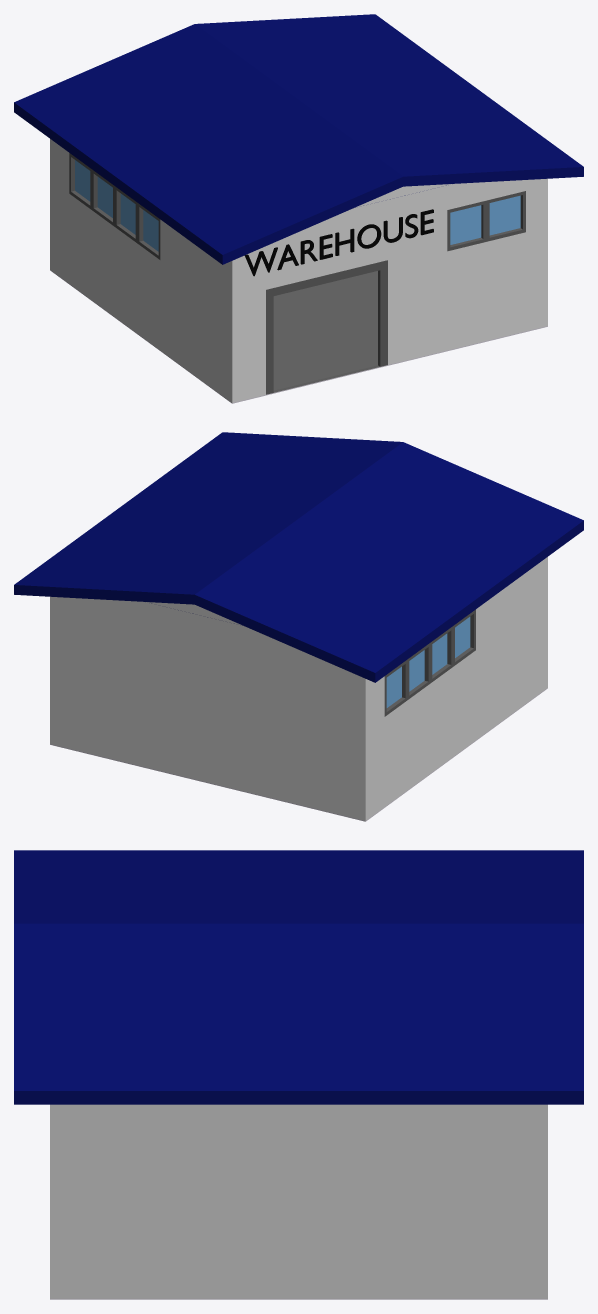
File: WAREHOUSE.fbx
The picture shows the model from 3 angles, top to bottom: view 1: azimuth 30°, elevation 25°; view 2: azimuth 150°, elevation 25°; view 3: azimuth 270°, elevation 25°; orthographic projection. The views are drawn at different scales.
Parts seen in each view (by area): view 1: building_001, Text; view 2: building_001; view 3: building_001.
Part boxes in pixels (bbox=[...]): building_001: bbox=[14, 14, 583, 403]; Text: bbox=[244, 209, 433, 276]; building_001: bbox=[14, 432, 583, 821]; building_001: bbox=[14, 850, 583, 1299].
Size of the model in its own units: 458 by 240 by 458.
